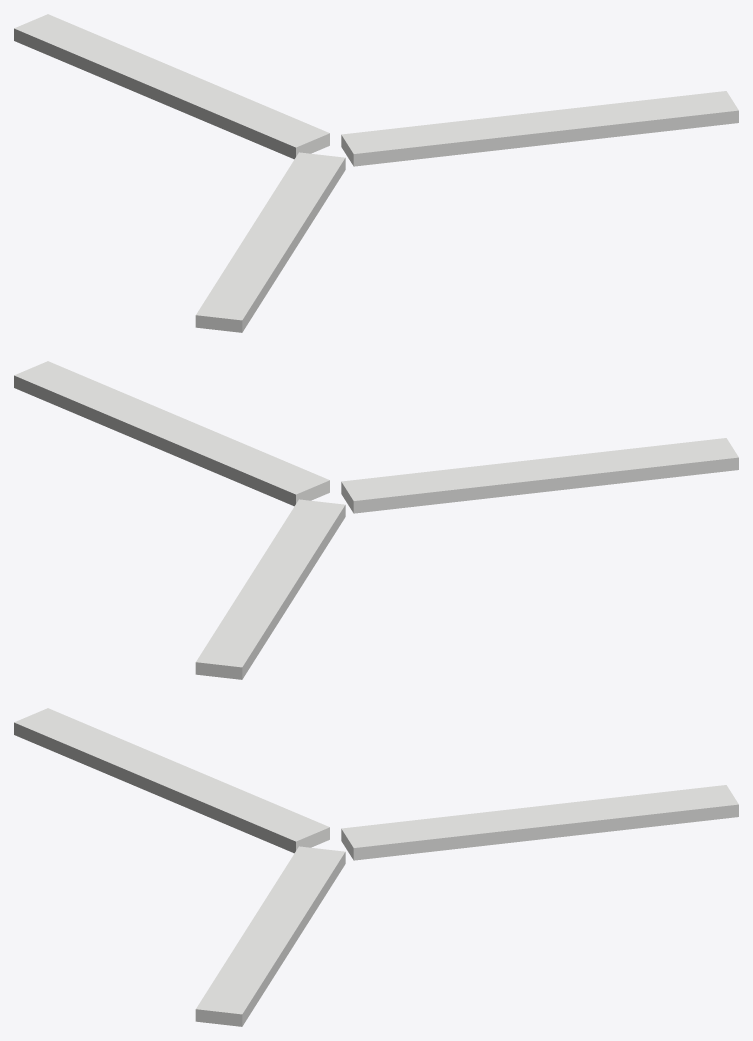
The model's file is wind_rotor2.obj.
The picture shows the model from 3 angles, top to bottom: view 1: azimuth 30°, elevation 25°; view 2: azimuth 150°, elevation 25°; view 3: azimuth 270°, elevation 25°; orthographic projection.
Bounding box in the file's own units: 1.05 × 0.02 × 1.05.
